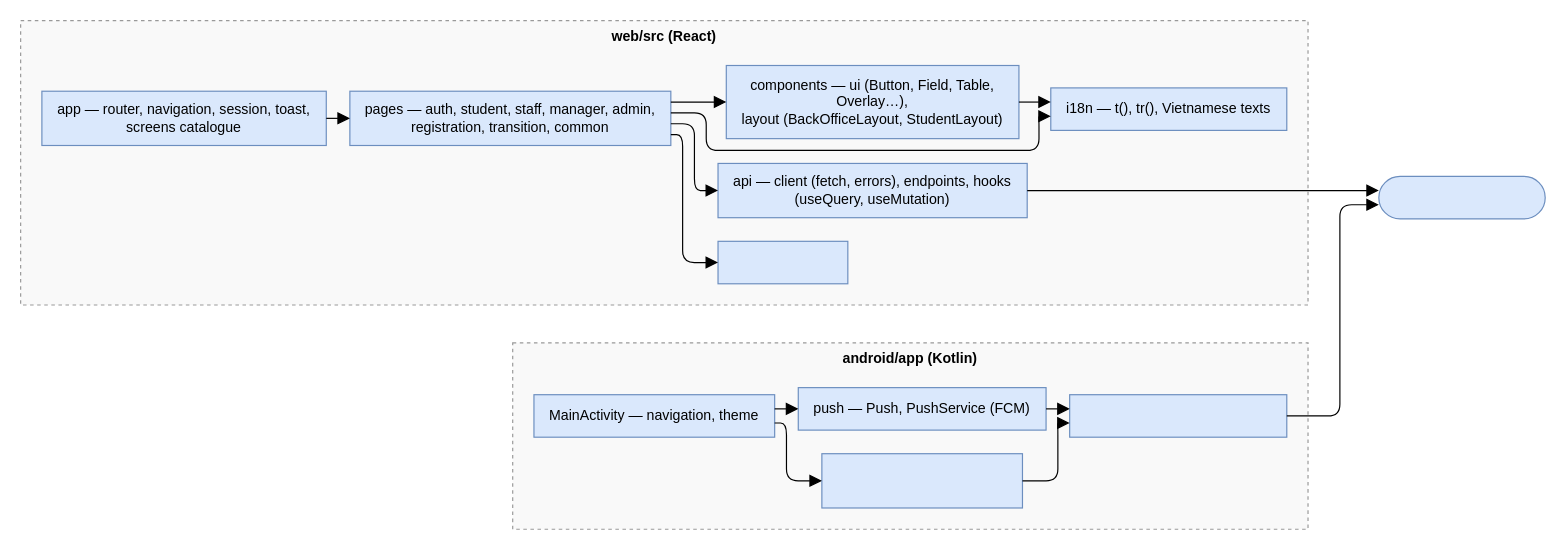
This 1566x550 diagram has some shape labels left out. The shapes that lost their labels are listed below. From the top down, each one's box as (x1, y1, x2, y2) in pixels, then its label:
(1378, 175, 1545, 219): CampusStay API /api
(717, 240, 848, 284): lib — format, cx
(1068, 394, 1287, 437): data — Api (OkHttp), Session
(821, 453, 1022, 508): ui — SignIn, Home, Room, Payments, Activity screens
